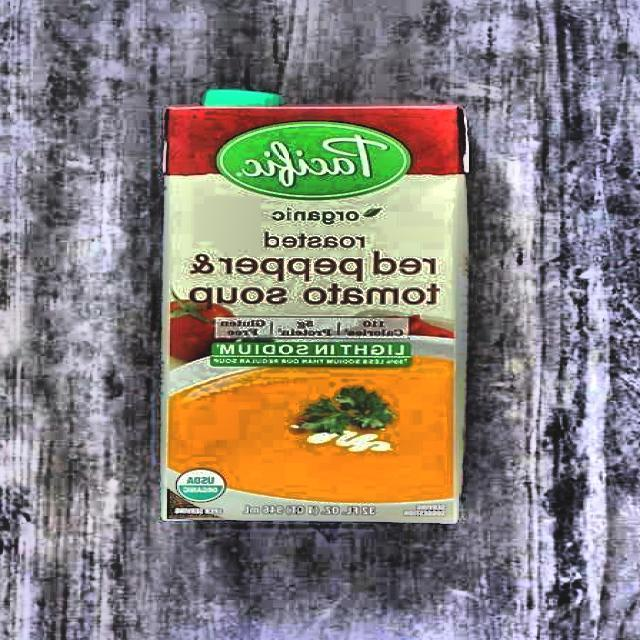cardboard: (160, 102, 472, 523)
